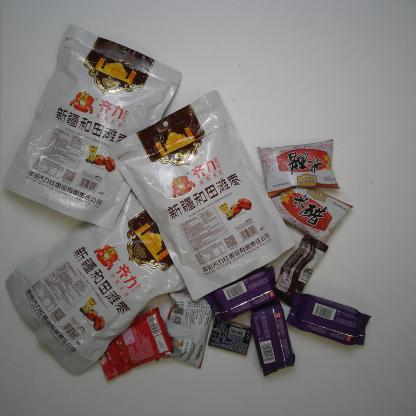Candy: (96, 305, 175, 383)
Chocolate: (270, 232, 330, 308)
Dessert: (284, 289, 372, 348), (202, 264, 282, 324), (249, 298, 297, 380)
Dried Food: (106, 89, 298, 302), (0, 23, 186, 234), (3, 185, 193, 379)
Gum: (205, 316, 255, 357)
Seasoner: (268, 184, 356, 246), (255, 137, 341, 199), (154, 288, 216, 371)
